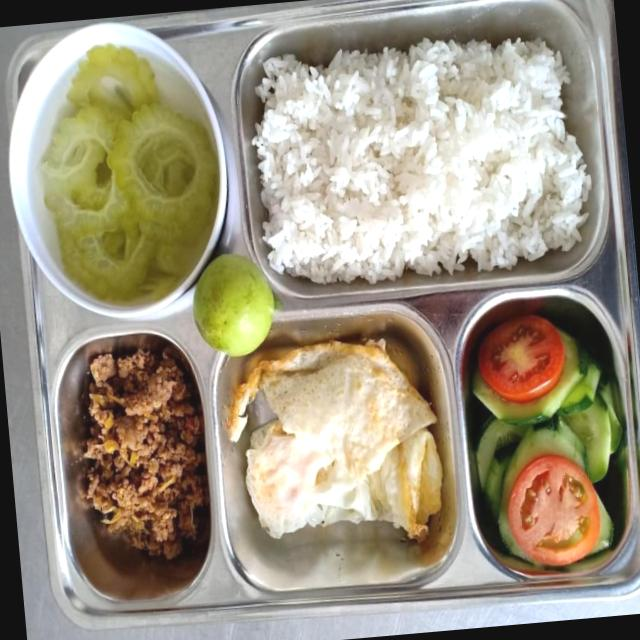ca chua: (508, 458, 601, 567), (478, 315, 564, 403)
com: (251, 38, 590, 284)
dua leo: (472, 330, 621, 558)
kho qua: (37, 44, 220, 305)
trung chien: (226, 339, 442, 538)
